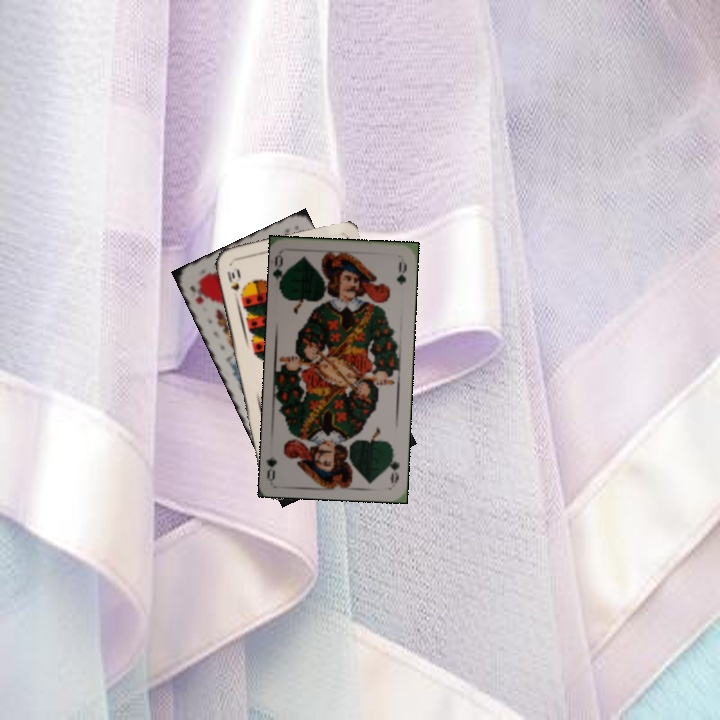GO: (271, 251, 291, 292), (384, 445, 402, 486)
HK: (186, 277, 209, 307)
S10: (223, 264, 242, 293)
